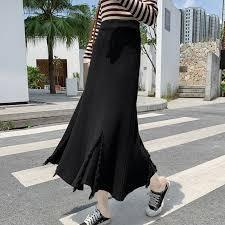skirt: (51, 18, 158, 200)
